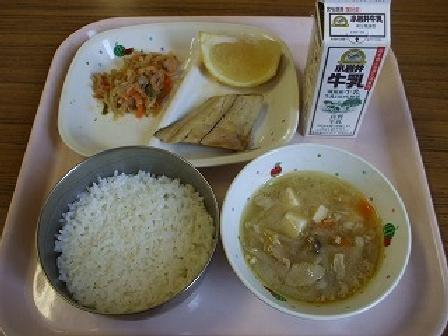Citrus: (185, 21, 288, 90)
Milk: (298, 0, 408, 139)
Rice: (39, 150, 210, 305)
Soups: (230, 151, 407, 310)
pastry: (167, 90, 270, 153)
salad with sauce: (83, 47, 183, 115)
